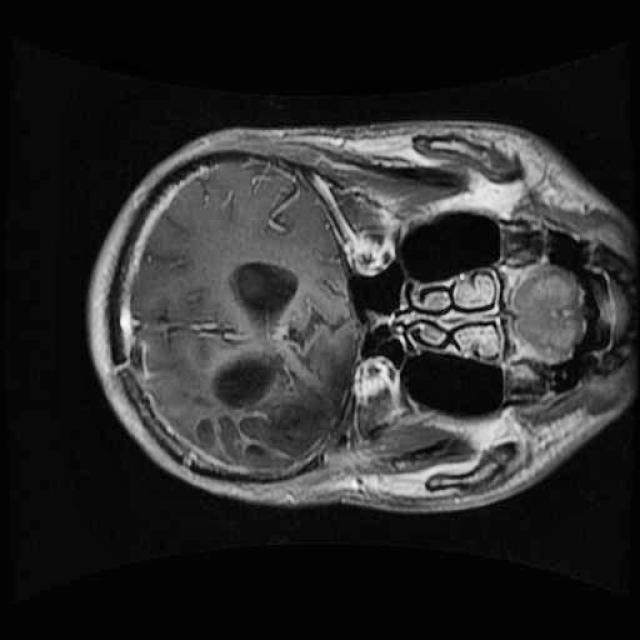Non-Tumor: (176, 310, 365, 495)
